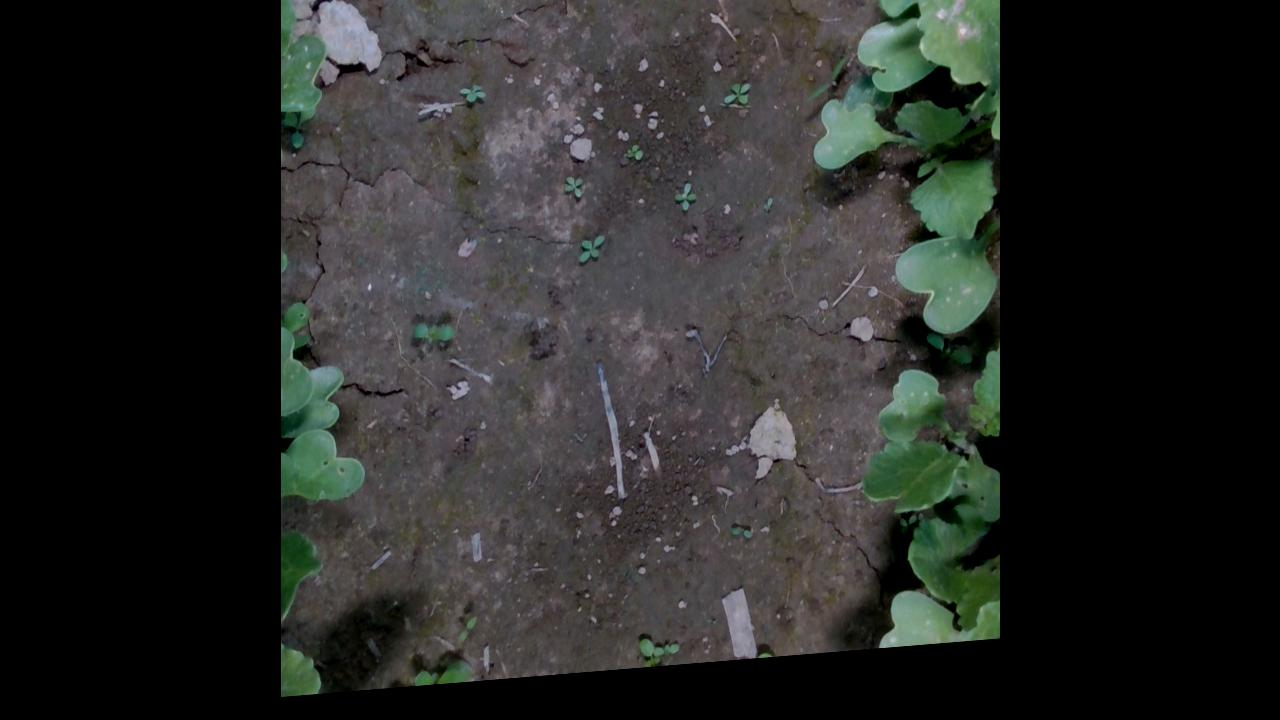weed: (410, 324, 456, 353), (578, 243, 606, 275), (674, 191, 700, 225), (723, 93, 751, 121), (456, 618, 479, 651), (458, 89, 489, 113), (564, 185, 585, 209), (670, 0, 714, 7)
